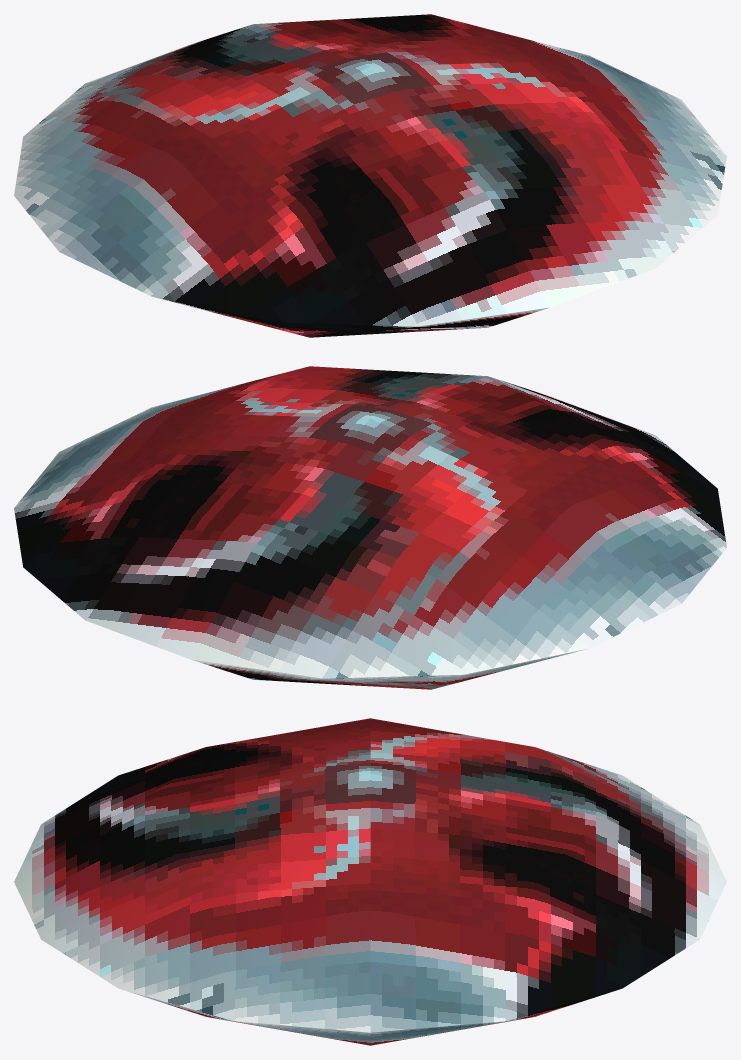
File: Seed02.glb
The picture shows the model from 3 angles, top to bottom: view 1: azimuth 30°, elevation 25°; view 2: azimuth 150°, elevation 25°; view 3: azimuth 270°, elevation 25°; orthographic projection.
Parts seen in each view (by area): view 1: Seed02-col; view 2: Seed02-col; view 3: Seed02-col.
Part boxes in pixels (x1=…): Seed02-col: x1=14, y1=14, x2=726, y2=337; Seed02-col: x1=14, y1=366, x2=726, y2=689; Seed02-col: x1=14, y1=718, x2=726, y2=1045.
Bounding box in the file's own units: 0.3812 × 0.1279 × 0.3812.
Materials: 1 (1 with a texture image).
